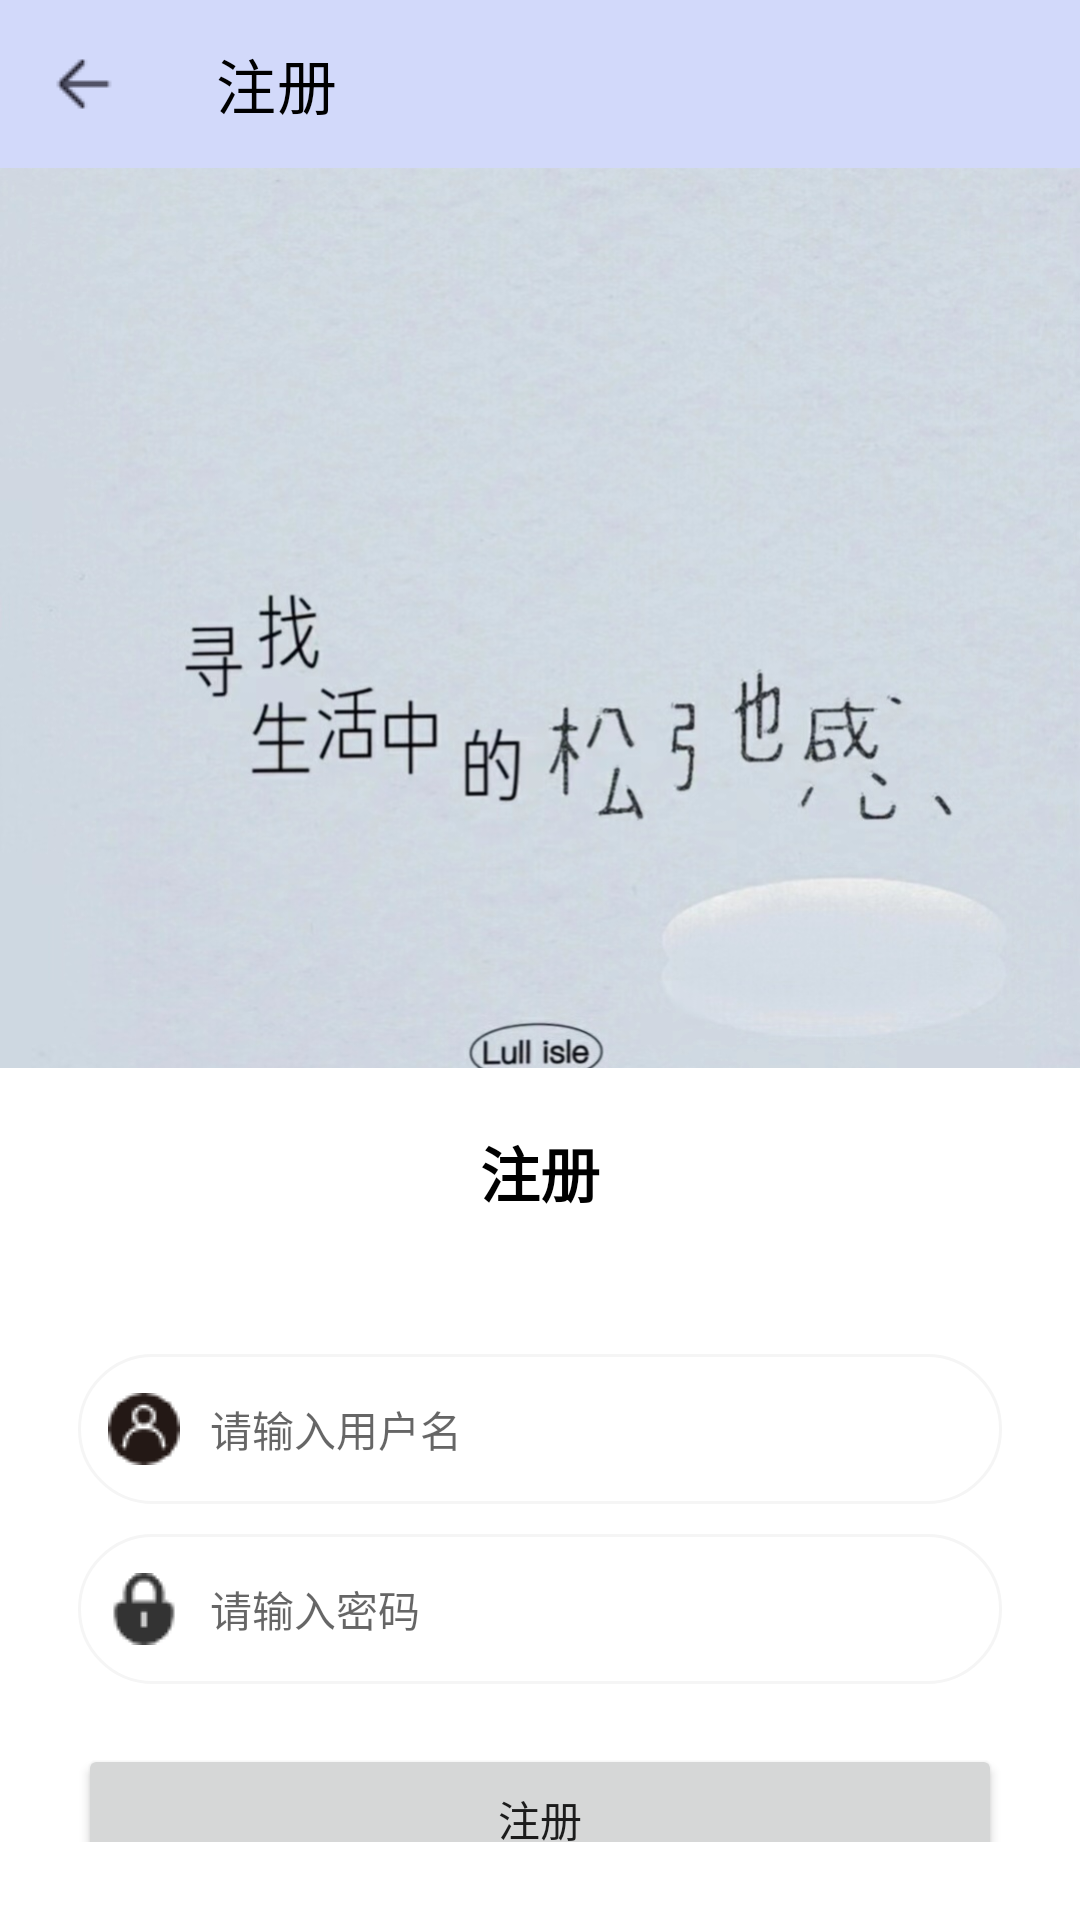

Named icons in this screenshot (1080×1920) and their centers, [x,y]:
password: [144,1609]
